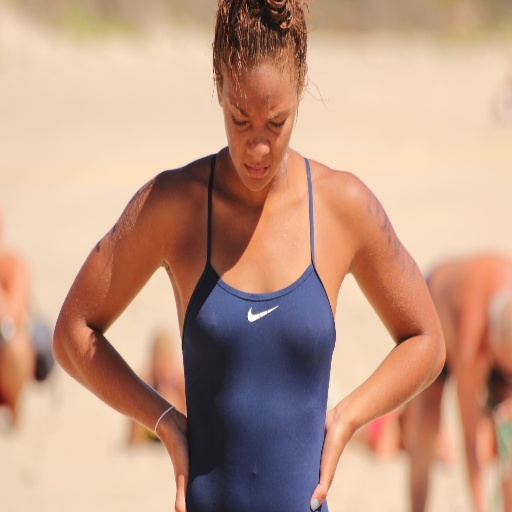hand: (309, 405, 348, 511), (164, 408, 190, 511)
